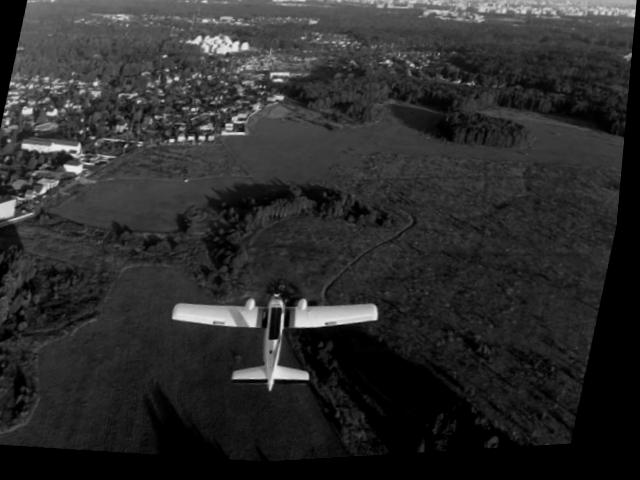hedef: (158, 263, 401, 414)
